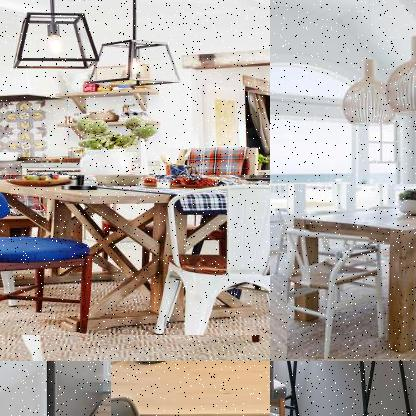table: (0, 175, 269, 337), (286, 184, 415, 360), (111, 361, 269, 415), (270, 361, 415, 415)
